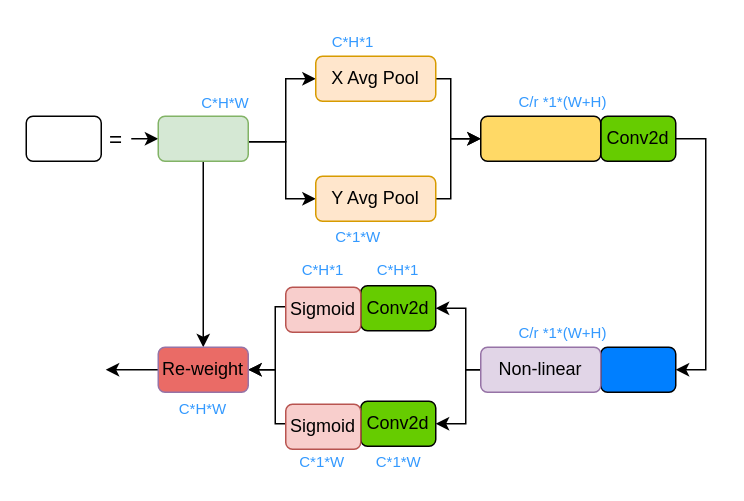
This 744x501 diagram has some shape labels left out. The box of each missing label's shape, as (x1, y1, x2, y2) in pixels:
BN: (599, 346, 676, 392)
CA: (25, 115, 101, 161)
Concat: (479, 115, 601, 161)
Residual: (157, 115, 248, 161)
